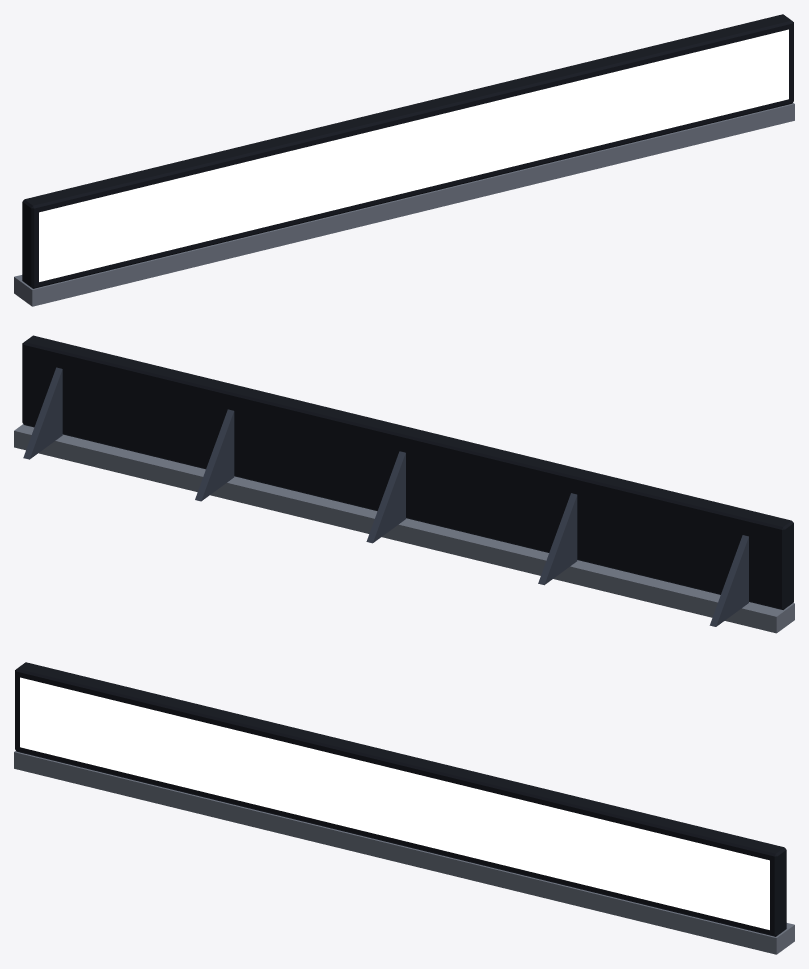
The model's file is led-board.glb.
3 views of the same model, one above another, from view 1: azimuth 30°, elevation 25°; view 2: azimuth 150°, elevation 25°; view 3: azimuth 330°, elevation 25° (orthographic).
Parts seen in each view (by area): view 1: led-board; view 2: led-board; view 3: led-board.
Part boxes in pixels (x1,y1,x2,y2): led-board: [14, 14, 794, 306]; led-board: [14, 335, 794, 633]; led-board: [14, 662, 794, 954].
Bounding box in the file's own units: 12 × 1.5 × 1.21.
2 materials, 1 textured.
